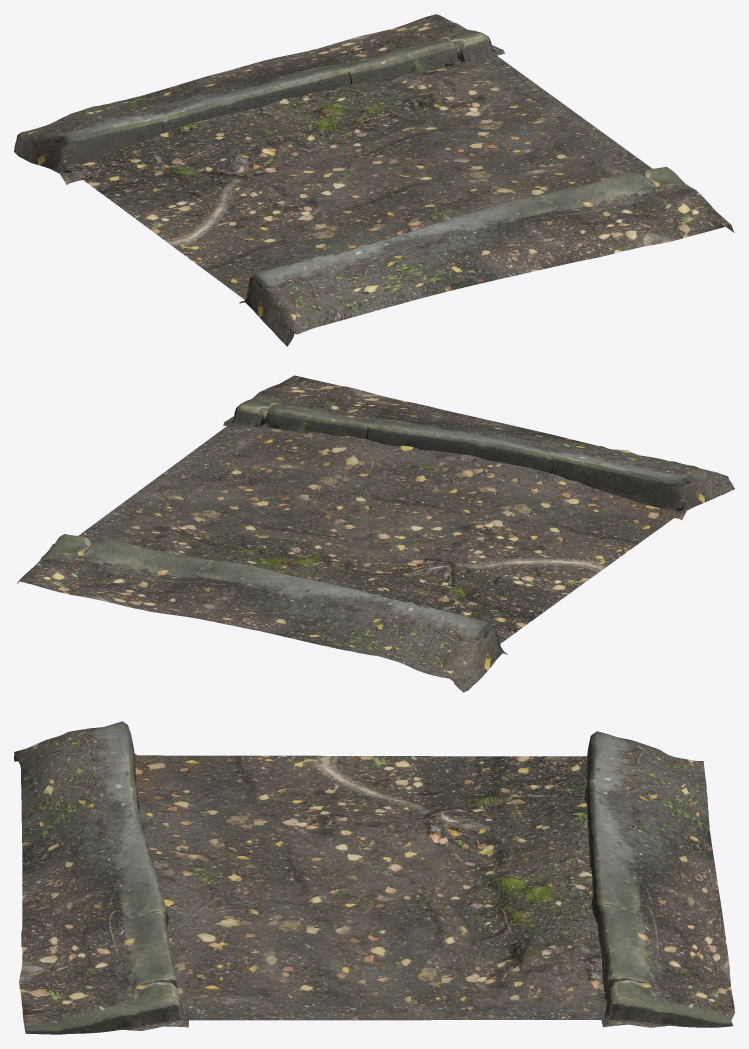
The model's file is sm_Ground_04_04.fbx.
The picture shows the model from 3 angles, top to bottom: view 1: azimuth 30°, elevation 25°; view 2: azimuth 150°, elevation 25°; view 3: azimuth 270°, elevation 25°; orthographic projection. The views are drawn at different scales.
Visible parts, largest first — view 1: sm_Ground_04_04_LOD0; view 2: sm_Ground_04_04_LOD0; view 3: sm_Ground_04_04_LOD0.
Part boxes in pixels (x1,y1,x2,y2): sm_Ground_04_04_LOD0: (14,14,734,346); sm_Ground_04_04_LOD0: (17,375,734,692); sm_Ground_04_04_LOD0: (14,721,734,1034).
Bounding box in the file's own units: 261 × 288 × 25.5.
